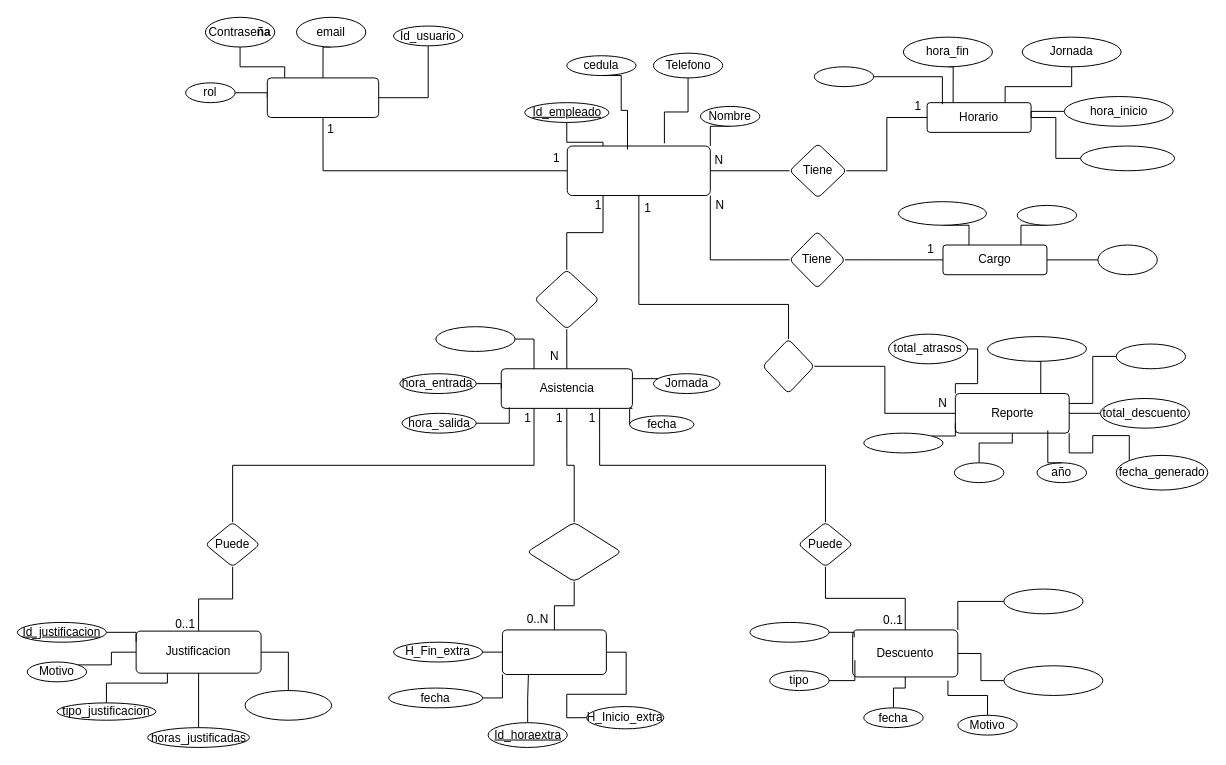
This 1226x765 diagram has some shape labels left out. Each missing label, with the box of its shape:
Dias_trabajo: (1080, 145, 1175, 171)
Empleado: (566, 145, 710, 196)
estado_descuento: (1003, 665, 1103, 695)
fecha_registro: (244, 690, 332, 720)
Genera: (762, 338, 814, 394)
HorasExtra: (501, 629, 606, 674)
Id_asistencia: (435, 326, 515, 351)
Id_cargo: (1016, 204, 1077, 225)
id_descuento: (1003, 588, 1083, 614)
Id_horario: (813, 66, 874, 87)
Id_reporte: (863, 432, 943, 453)
mes: (953, 462, 1004, 483)
Monto: (749, 621, 829, 642)
Nombre_cargo: (897, 201, 987, 225)
Puede_tener: (526, 521, 621, 582)
Registra: (534, 269, 599, 329)
Sueldo: (1097, 244, 1157, 275)
total_horas: (1115, 343, 1186, 369)
total_horas_extra: (987, 336, 1087, 361)
Usuario: (266, 77, 379, 118)
